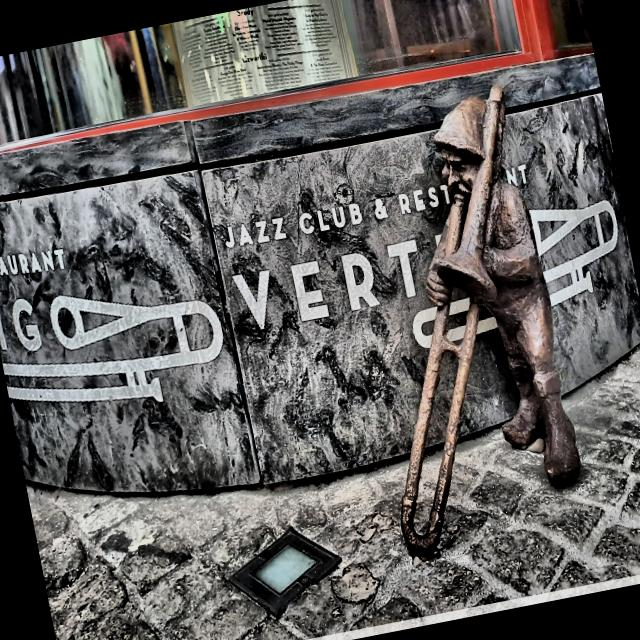Vertigus: (401, 87, 581, 560)
